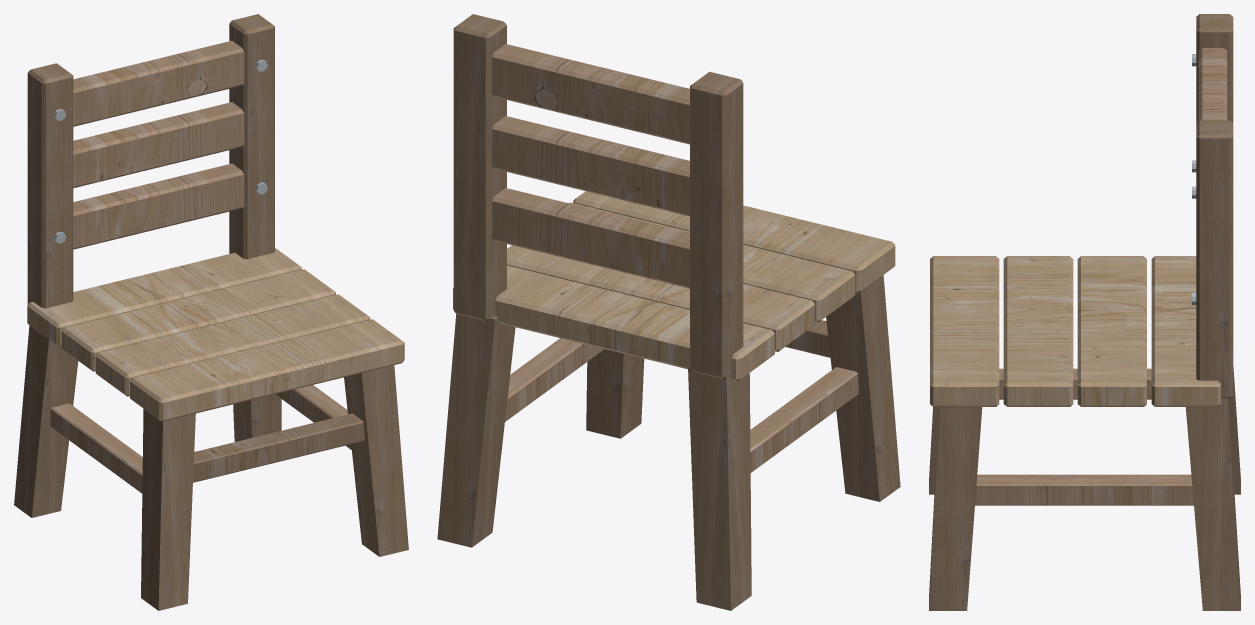
The model's file is build_chair.glb.
3 views of the same model, side by side, from view 1: azimuth 30°, elevation 25°; view 2: azimuth 150°, elevation 25°; view 3: azimuth 270°, elevation 25° (orthographic). The views are drawn at different scales.
Parts seen in each view (by area): view 1: build_chair; view 2: build_chair; view 3: build_chair.
Boxes of the visible parts, <box> form: build_chair: <box>14,14,408,610</box>; build_chair: <box>437,14,900,610</box>; build_chair: <box>929,14,1240,610</box>.
Bounding box in the file's own units: 0.6 × 1 × 0.6.
4 materials, 4 textured.
